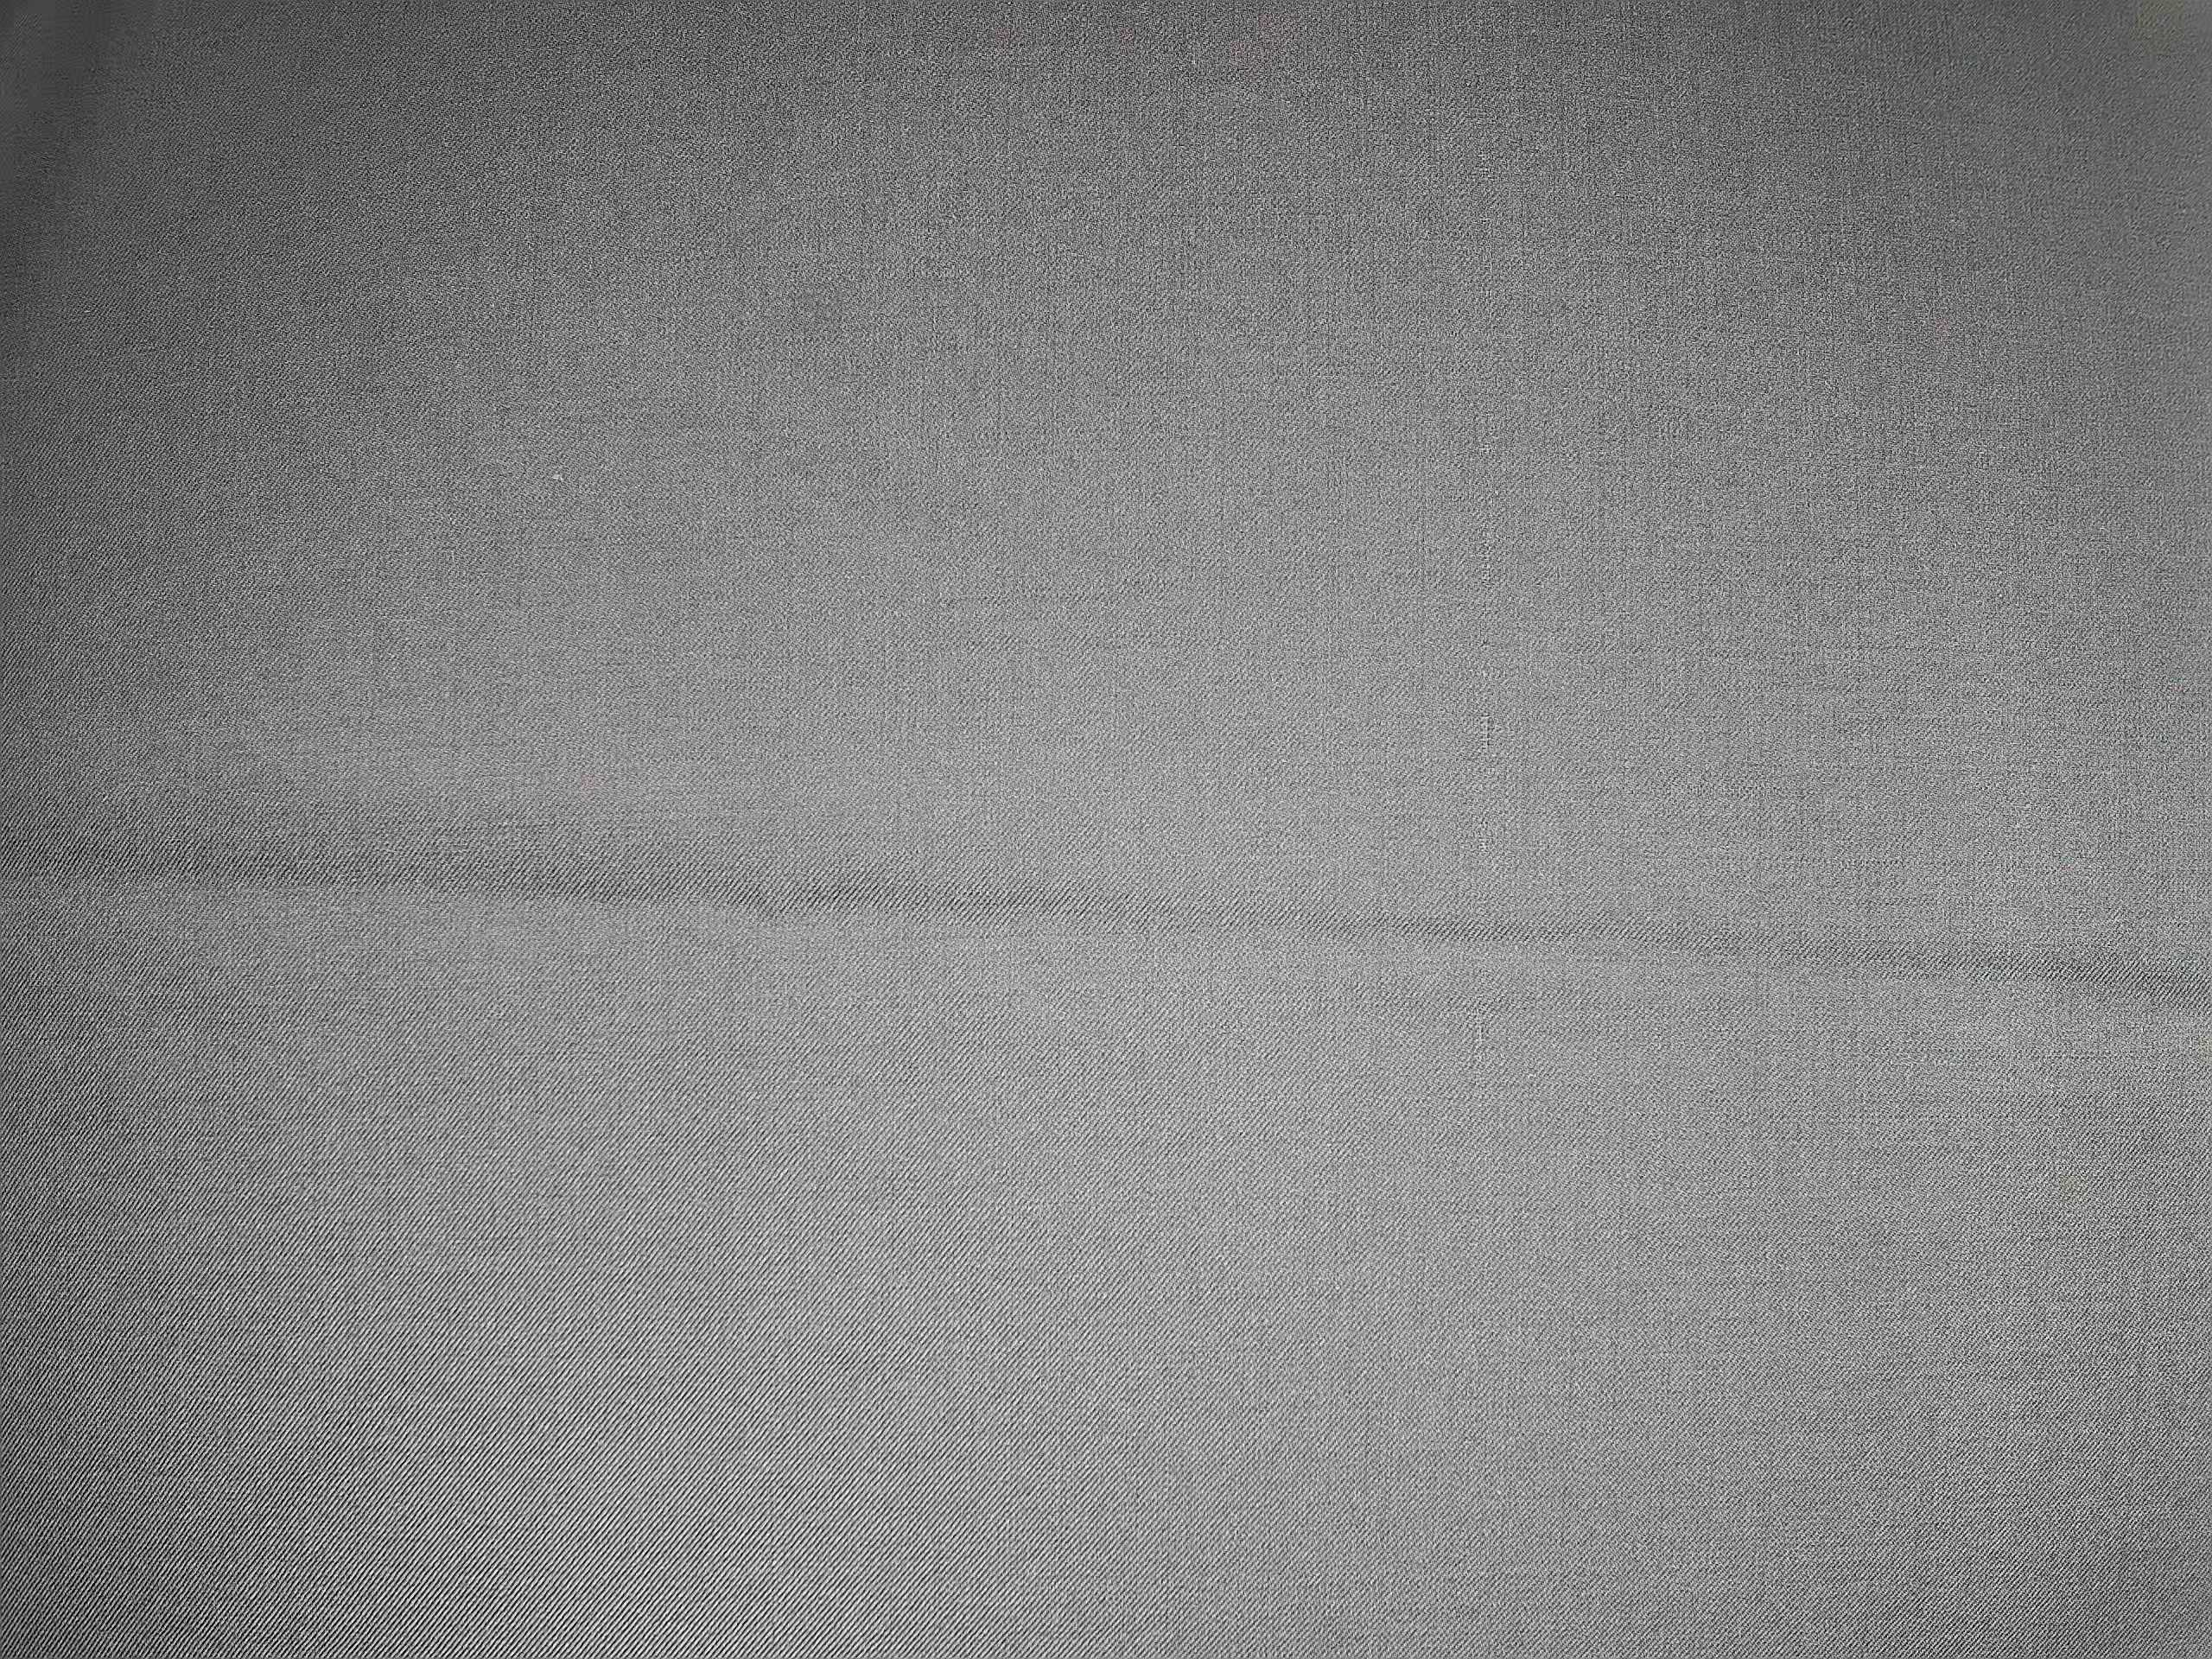jumps: (1457, 122, 1506, 1092)
